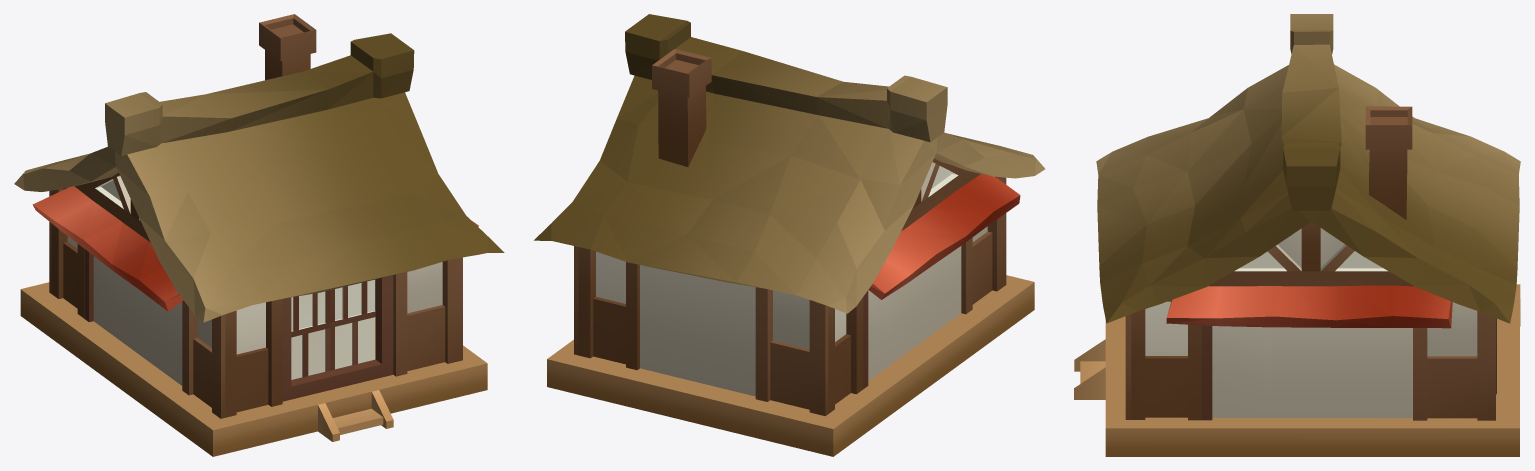
File: House_4x5.fbx
3 views of the same model, side by side, from view 1: azimuth 30°, elevation 25°; view 2: azimuth 150°, elevation 25°; view 3: azimuth 270°, elevation 25° (orthographic). The views are drawn at different scales.
Visible parts, largest first — view 1: House_4x5.003; view 2: House_4x5.003; view 3: House_4x5.003.
Boxes of the visible parts, x1,y1,x2,y2 form: House_4x5.003: (14,14,504,456); House_4x5.003: (534,14,1045,456); House_4x5.003: (1074,14,1520,456).
Bounding box in the file's own units: 5.52 × 4.78 × 6.35.
1 material, 1 textured.
